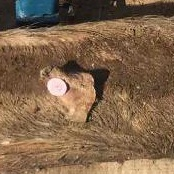text: (36, 68, 74, 106)
